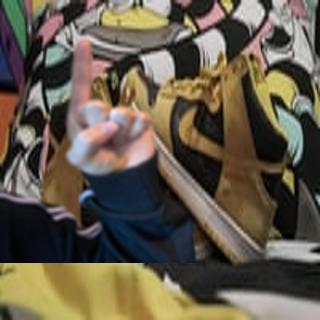IRRITATED: (63, 37, 159, 177)
